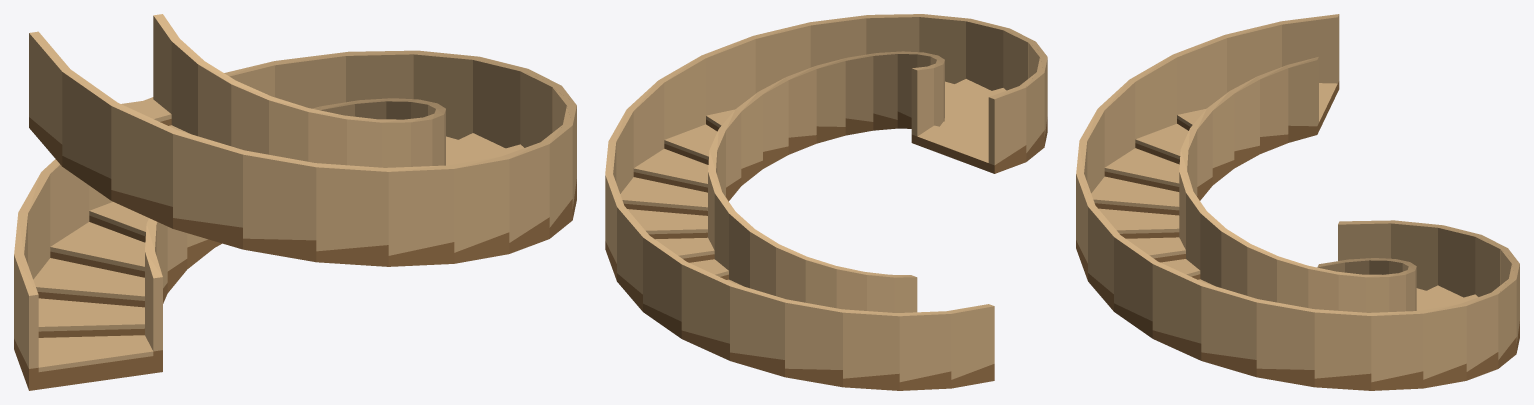
Rendered from stair.fbx.
The picture shows the model from 3 angles, left to right: view 1: azimuth 30°, elevation 25°; view 2: azimuth 150°, elevation 25°; view 3: azimuth 270°, elevation 25°; orthographic projection. The views are drawn at different scales.
Parts seen in each view (by area): view 1: Group_33_5, Group_33_4, Group_33_18, Group_33_3, Group_33_19, Group_33_1, Group_33_20, Group8, Group_33_2, Group_33_16, Group_33_24, Group_33_13 (+26 smaller); view 2: Group_33_14, Group_33_12, Group_33_7, Group_33_22, Group_33_15, Group_33_23, Group_33_8, Group_33_21, Group_33_24, Group_33_9, Group_33_2, Group_33_19 (+35 smaller); view 3: Group_33_17, Group_33_21, Group_33_13, Group_33_2, Group_33_3, Group_33_22, Group_33_1, Group_33_16, Group_33_4, Group_33_23, Group_33_11, Group_33_5 (+30 smaller).
Part boxes in pixels (bbox=[...]): Group_33_5: bbox=[243, 96, 316, 240]; Group_33_4: bbox=[173, 80, 270, 227]; Group_33_18: bbox=[308, 108, 388, 251]; Group_33_3: bbox=[111, 61, 235, 206]; Group_33_19: bbox=[344, 115, 454, 255]; Group_33_1: bbox=[62, 39, 204, 178]; Group_33_20: bbox=[377, 119, 509, 252]; Group8: bbox=[14, 335, 162, 390]; Group_33_2: bbox=[29, 14, 179, 144]; Group_33_16: bbox=[355, 50, 478, 139]; Group_33_24: bbox=[404, 117, 549, 242]; Group_33_13: bbox=[386, 56, 527, 148]; Group_33_14: bbox=[785, 257, 842, 369]; Group_33_12: bbox=[730, 244, 806, 359]; Group_33_7: bbox=[836, 266, 899, 378]; Group_33_22: bbox=[702, 36, 788, 151]; Group_33_15: bbox=[681, 229, 779, 343]; Group_33_23: bbox=[753, 22, 816, 137]; Group_33_8: bbox=[865, 272, 951, 382]; Group_33_21: bbox=[658, 55, 762, 168]; Group_33_24: bbox=[810, 15, 867, 126]; Group_33_9: bbox=[643, 211, 754, 321]; Group_33_2: bbox=[911, 66, 1026, 165]; Group_33_19: bbox=[873, 14, 970, 119]; Group_33_17: bbox=[1256, 256, 1314, 369]; Group_33_21: bbox=[1201, 244, 1278, 359]; Group_33_13: bbox=[1308, 265, 1371, 378]; Group_33_2: bbox=[1281, 14, 1339, 126]; Group_33_3: bbox=[1173, 35, 1259, 151]; Group_33_22: bbox=[1152, 229, 1250, 343]; Group_33_1: bbox=[1225, 21, 1288, 136]; Group_33_16: bbox=[1336, 271, 1423, 382]; Group_33_4: bbox=[1130, 54, 1234, 167]; Group_33_23: bbox=[1114, 211, 1226, 321]; Group_33_11: bbox=[1362, 274, 1466, 379]; Group_33_5: bbox=[1098, 79, 1212, 186].
Bounding box in the file's own units: 421 × 296 × 421.
